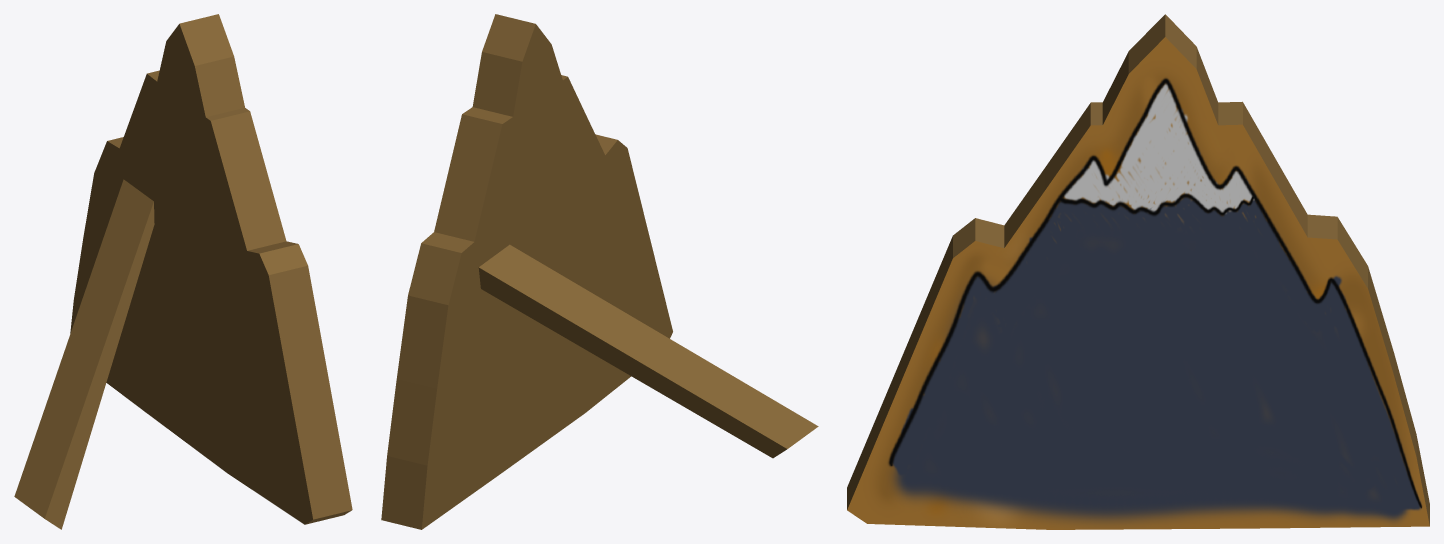
The model's file is Mountain2.fbx.
The picture shows the model from 3 angles, left to right: view 1: azimuth 30°, elevation 25°; view 2: azimuth 150°, elevation 25°; view 3: azimuth 270°, elevation 25°; orthographic projection. The views are drawn at different scales.
Parts seen in each view (by area): view 1: Plane.001; view 2: Plane.001; view 3: Plane.001.
Boxes of the visible parts, x1,y1,x2,y2 form: Plane.001: [14, 14, 352, 529]; Plane.001: [381, 14, 818, 529]; Plane.001: [847, 14, 1429, 529].
Bounding box in the file's own units: 107 × 173 × 186.
2 materials, 1 textured.
